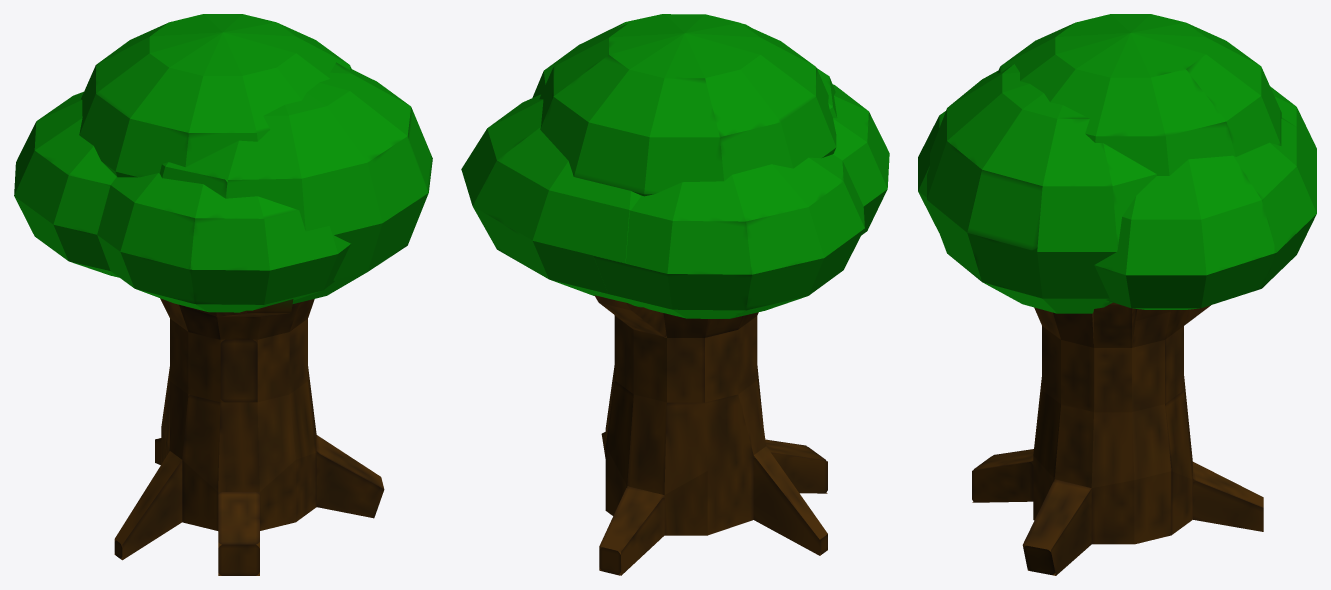
The model's file is arvore.obj.
The picture shows the model from 3 angles, left to right: view 1: azimuth 30°, elevation 25°; view 2: azimuth 150°, elevation 25°; view 3: azimuth 270°, elevation 25°; orthographic projection. The views are drawn at different scales.
Parts seen in each view (by area): view 1: sphere, cylinder; view 2: sphere, cylinder; view 3: sphere, cylinder.
Part boxes in pixels (x1=…): sphere: x1=14, y1=14, x2=432, y2=312; cylinder: x1=114, y1=298, x2=384, y2=575; sphere: x1=461, y1=14, x2=889, y2=318; cylinder: x1=594, y1=295, x2=827, y2=575; sphere: x1=918, y1=14, x2=1316, y2=313; cylinder: x1=972, y1=302, x2=1263, y2=575.
Bounding box in the file's own units: 2.94 × 3.88 × 2.81.
Materials: 1 (1 with a texture image).
